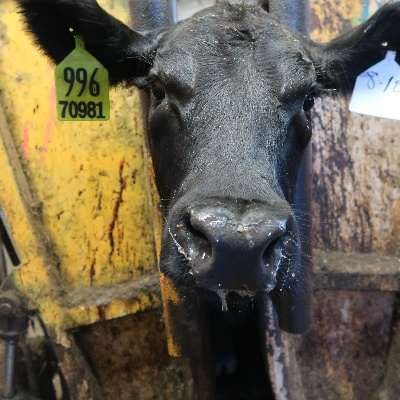fidget_spinner: (175, 195, 301, 290)
